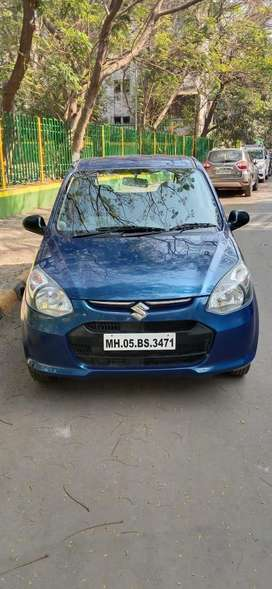MH05BS3471: (103, 331, 176, 349)
